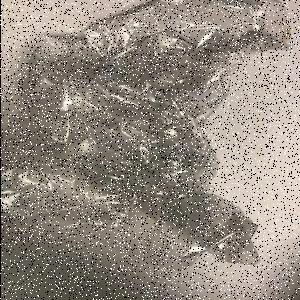Trash: (2, 2, 294, 272)
